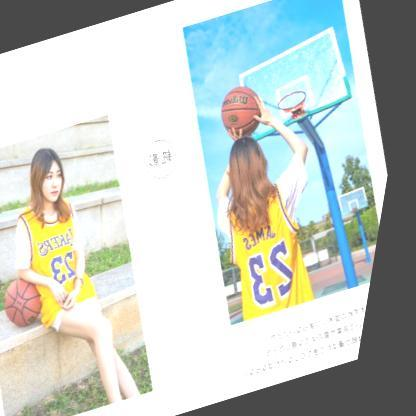basketball: (214, 81, 275, 141), (4, 272, 62, 332)
